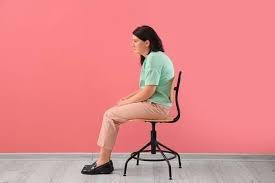bad-pose: (0, 0, 275, 183)
